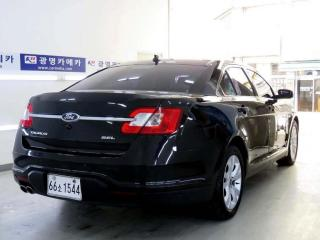1: (63, 182, 67, 192)
4: (75, 184, 80, 195), (72, 183, 76, 195)
5: (67, 181, 72, 195)
6: (48, 180, 53, 191), (53, 181, 57, 192)
plate: (41, 169, 87, 206)
소: (57, 183, 62, 193)
